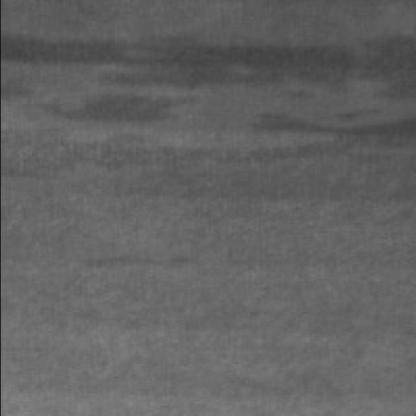inclusion: (6, 29, 416, 126), (247, 102, 416, 150), (79, 242, 198, 276)
